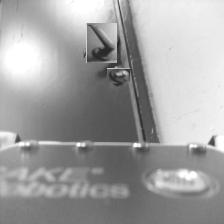Door Handle: (84, 26, 119, 61)
Lock: (109, 66, 128, 86)
